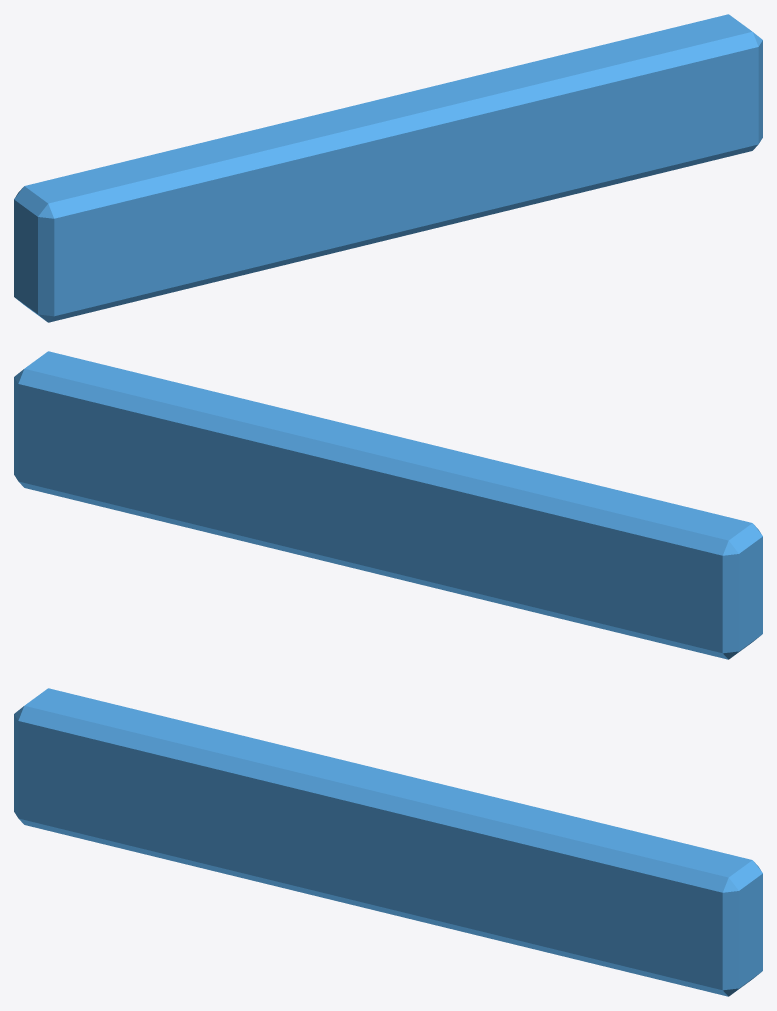
File: right_shoulder__edge_trim__lip.glb
3 views of the same model, one above another, from view 1: azimuth 30°, elevation 25°; view 2: azimuth 150°, elevation 25°; view 3: azimuth 330°, elevation 25° (orthographic).
Visible parts, largest first — view 1: armor_topping_right_shoulder_edge_trim_lip_v001_v001; view 2: armor_topping_right_shoulder_edge_trim_lip_v001_v001; view 3: armor_topping_right_shoulder_edge_trim_lip_v001_v001.
Part boxes in pixels (left/top/right/bottom): armor_topping_right_shoulder_edge_trim_lip_v001_v001: left=14, top=14, right=762, bottom=322; armor_topping_right_shoulder_edge_trim_lip_v001_v001: left=14, top=351, right=762, bottom=659; armor_topping_right_shoulder_edge_trim_lip_v001_v001: left=14, top=688, right=762, bottom=996.
Bounding box in the file's own units: 0.14 × 0.022 × 0.012.
